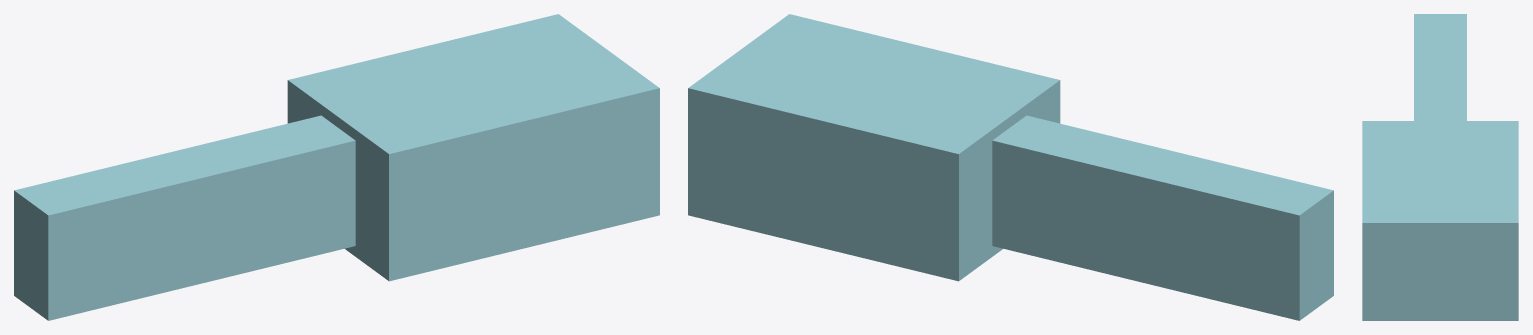
File: cuboid_brush_v8002.obj
3 views of the same model, side by side, from view 1: azimuth 30°, elevation 25°; view 2: azimuth 150°, elevation 25°; view 3: azimuth 270°, elevation 25° (orthographic). The views are drawn at different scales.
Size of the model in its own units: 0.2285 by 0.0481 by 0.0694.
1 material, 1 textured.
